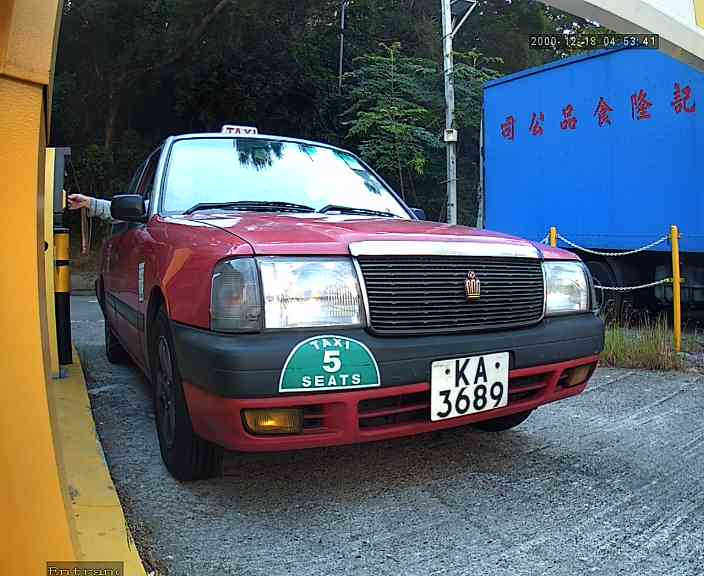taxi: (70, 114, 615, 491)
taxi_mark: (274, 327, 387, 400)
